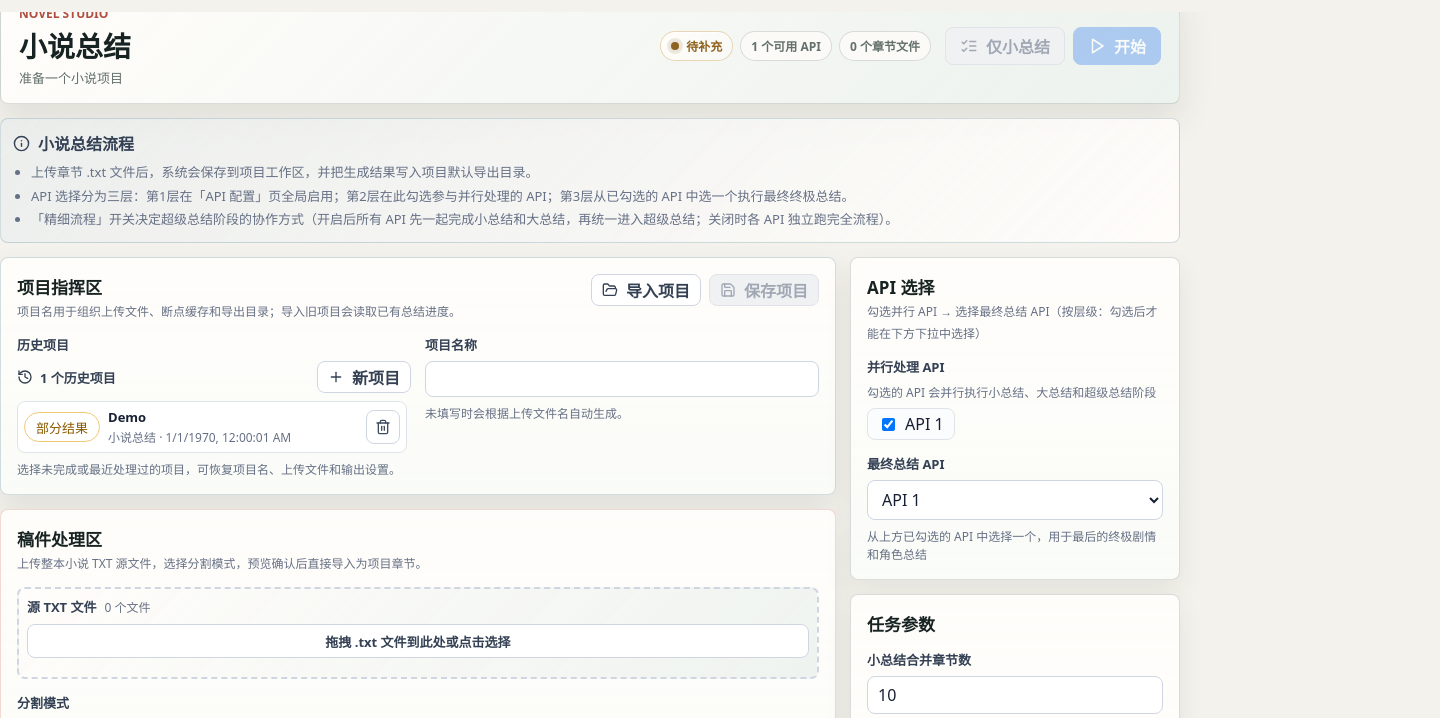
Scenario: NovelSummaryPage › shows terminal project state and warnings after restoring history
(page scrolled)
Click the text "Demo".
click(127, 416)  # box [108, 408, 146, 426]
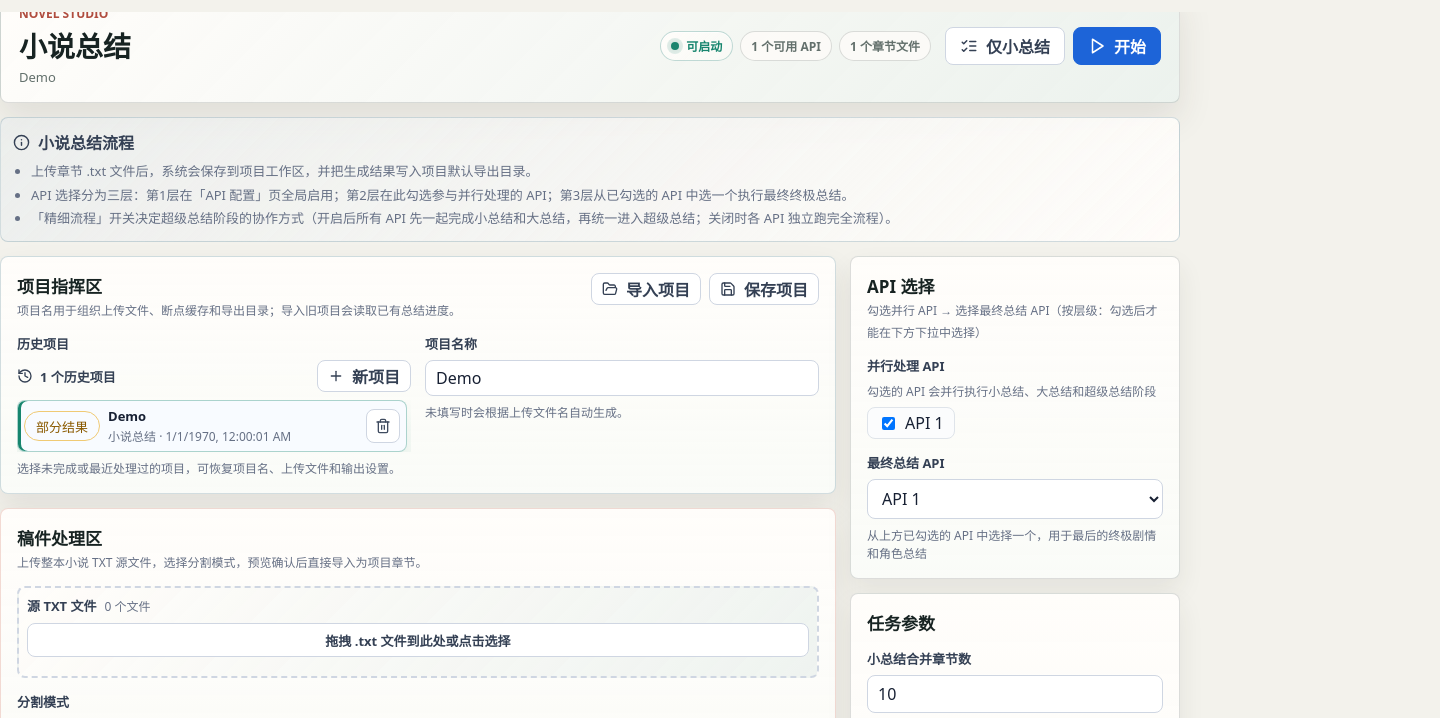
expect the text "部分结果" is shown: met, box [24, 410, 100, 440]
expect the button "开始" is enabled: met, box [1073, 26, 1161, 64]
